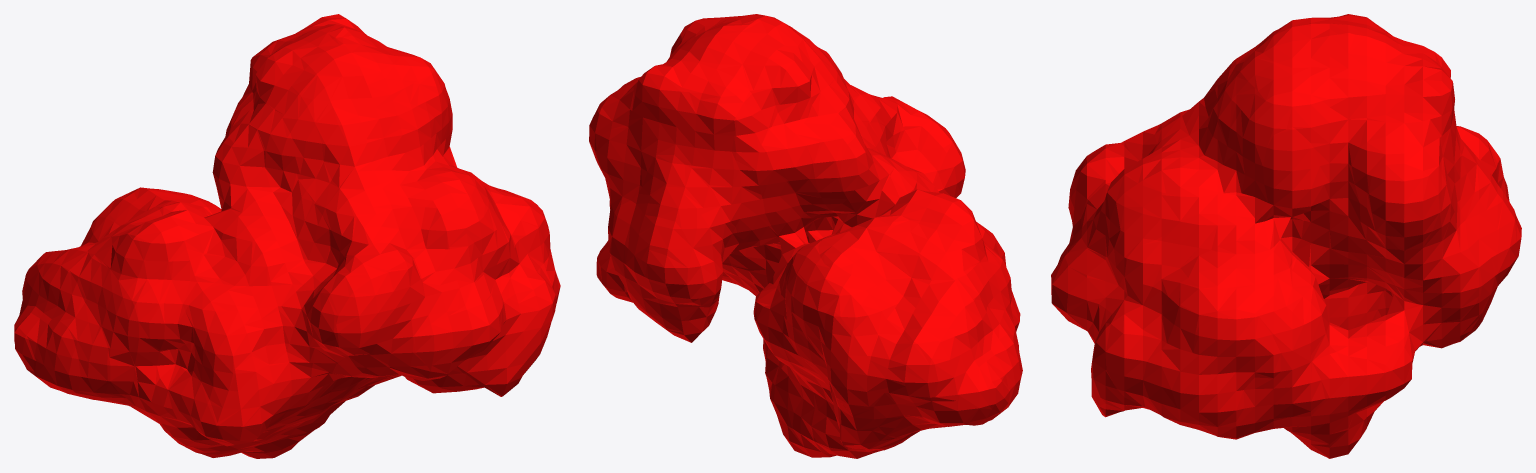
The model's file is fadJ_coarse.dae.
3 views of the same model, side by side, from view 1: azimuth 30°, elevation 25°; view 2: azimuth 150°, elevation 25°; view 3: azimuth 270°, elevation 25° (orthographic). The views are drawn at different scales.
Visible parts, largest first — view 1: fadJ; view 2: fadJ; view 3: fadJ.
Part boxes in pixels (x1,y1,x2,y2): fadJ: (14,14,560,458); fadJ: (589,14,1022,458); fadJ: (1051,14,1521,458).
Bounding box in the file's own units: 88.57 × 76.58 × 69.74.
